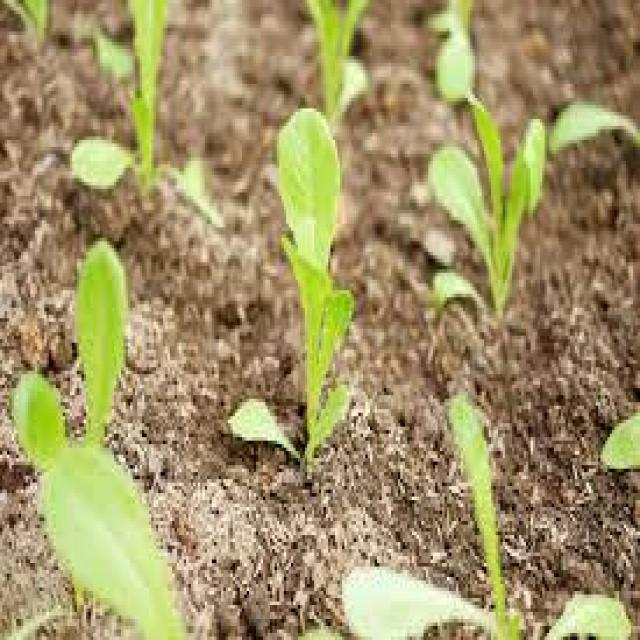Lettuce-Not-Ready-to-Harvest: (230, 106, 349, 469), (26, 237, 136, 626), (72, 0, 221, 229), (430, 87, 550, 318)
